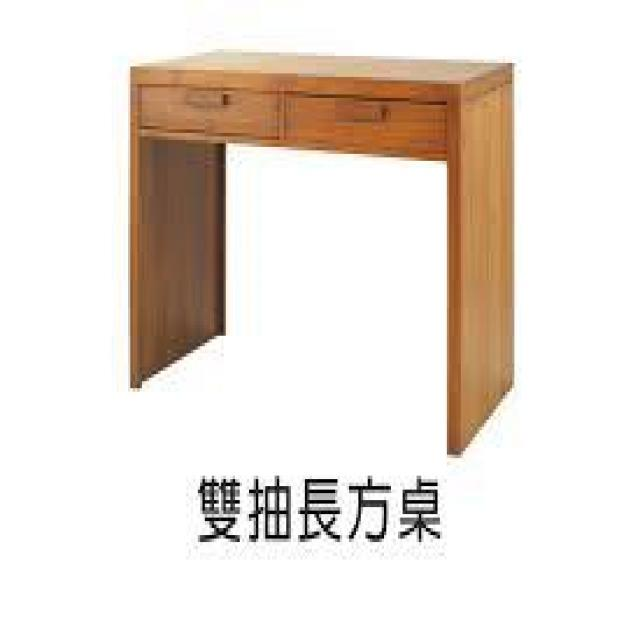table: (95, 11, 540, 465)
